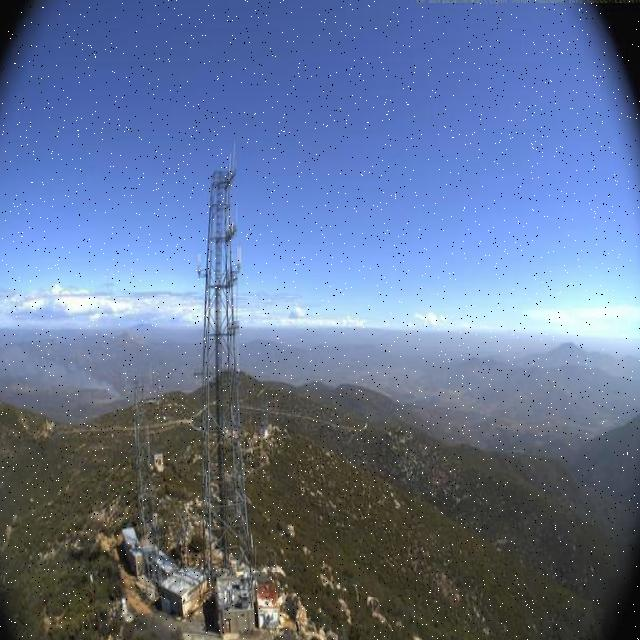smoke: (0, 345, 125, 400)
